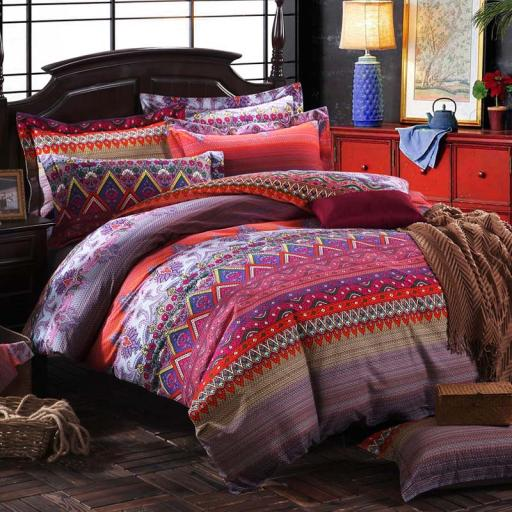bed: (11, 6, 507, 490)
